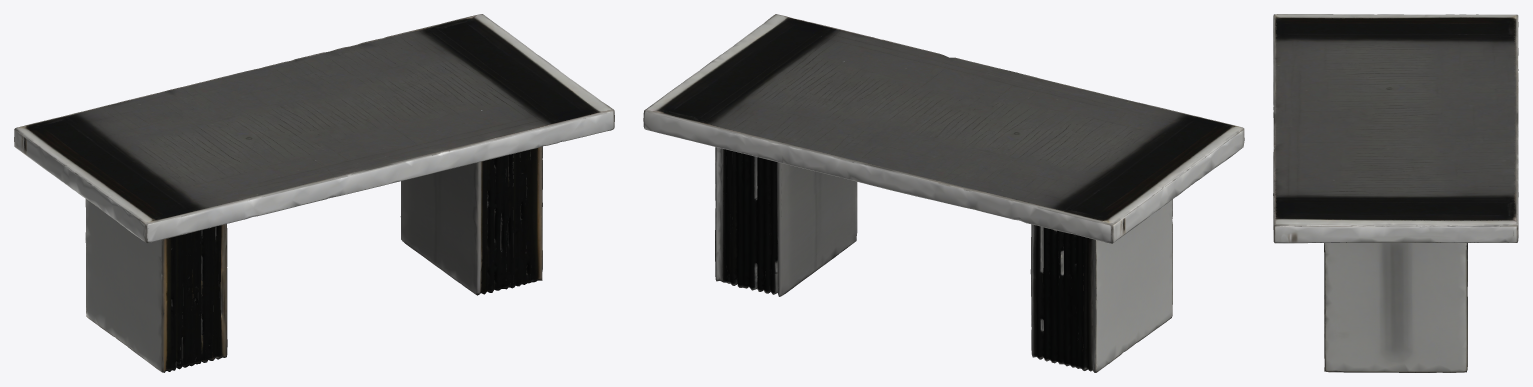
3 views of the same model, side by side, from view 1: azimuth 30°, elevation 25°; view 2: azimuth 150°, elevation 25°; view 3: azimuth 270°, elevation 25° (orthographic). The views are drawn at different scales.
Size of the model in its own units: 2.01 by 0.7463 by 0.9845.
1 material, 1 textured.
